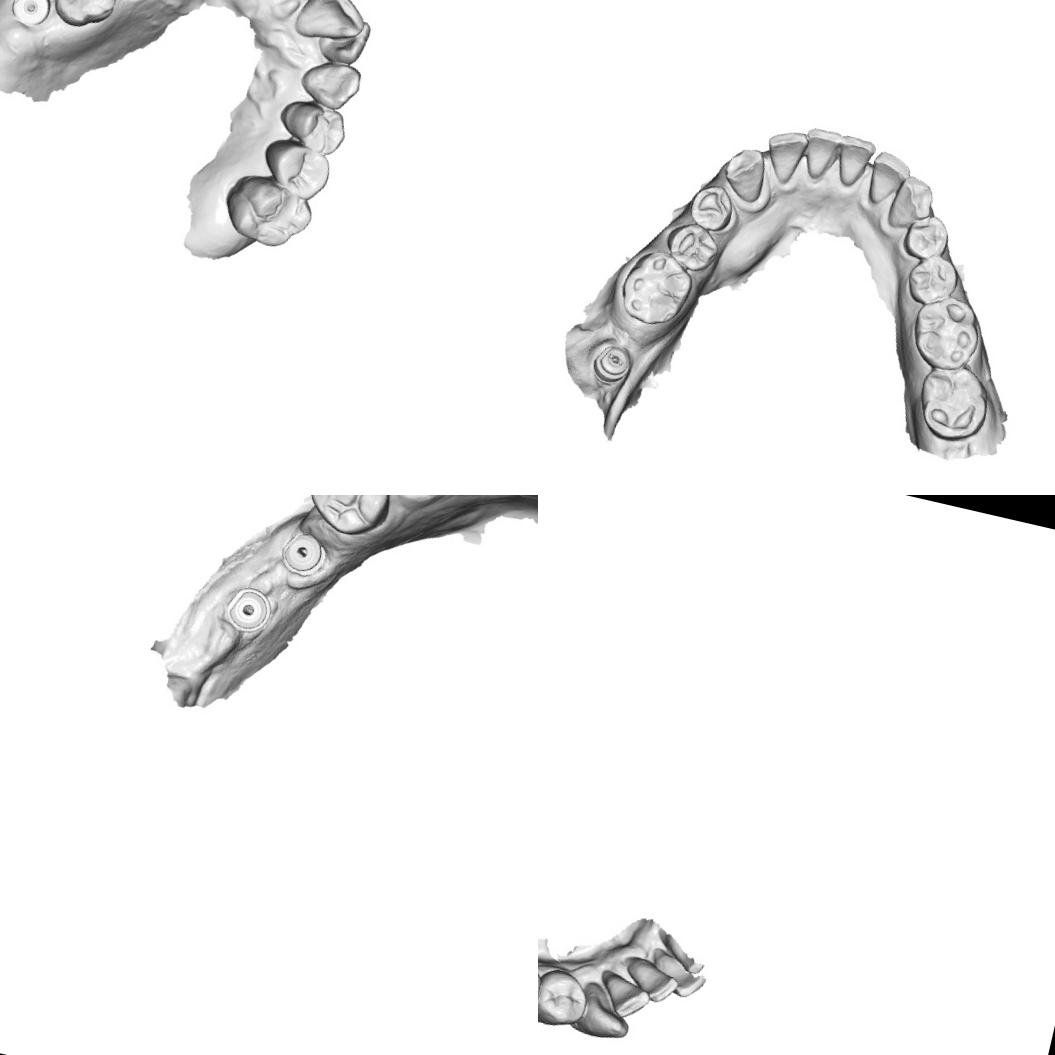canine: (572, 979, 639, 1046), (295, 54, 366, 115), (883, 170, 940, 235), (717, 142, 773, 207)
implant: (221, 584, 279, 643), (276, 525, 328, 580), (5, 0, 56, 31)
implant_minus: (586, 339, 634, 389)
incisor: (290, 0, 370, 51), (861, 146, 916, 212), (312, 12, 373, 70), (758, 124, 812, 189), (646, 950, 710, 1003), (596, 968, 655, 1025), (623, 957, 683, 1008), (829, 131, 878, 191), (796, 123, 844, 184)
molar: (216, 170, 320, 256), (613, 242, 700, 334), (909, 359, 996, 449), (904, 290, 989, 378), (40, 0, 128, 35)
premolar: (254, 134, 336, 206), (270, 93, 352, 160), (304, 495, 398, 544), (902, 250, 963, 312), (538, 966, 594, 1033), (661, 218, 725, 276), (900, 209, 954, 265), (684, 178, 738, 234)
